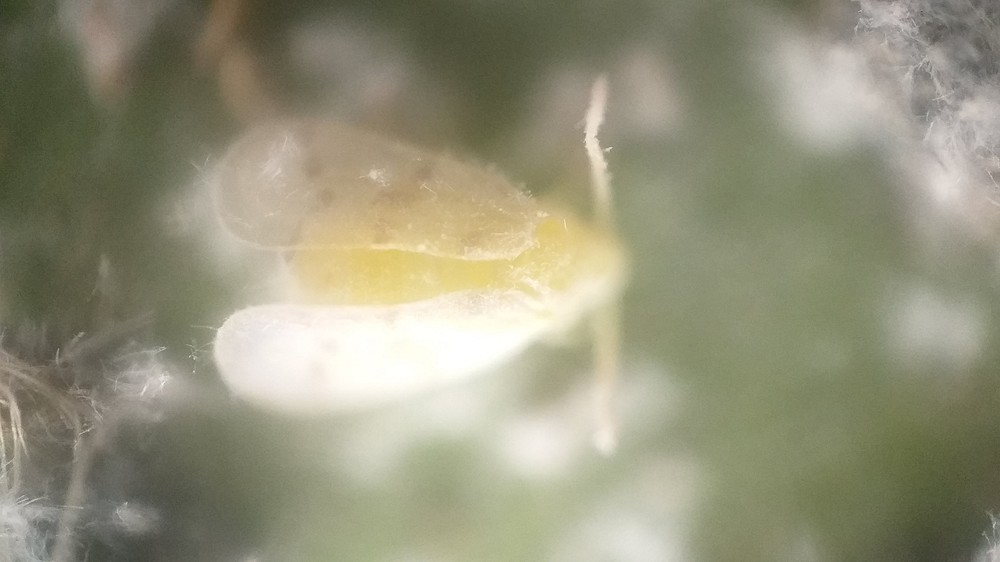Mosca Blanca: (193, 60, 652, 475)
